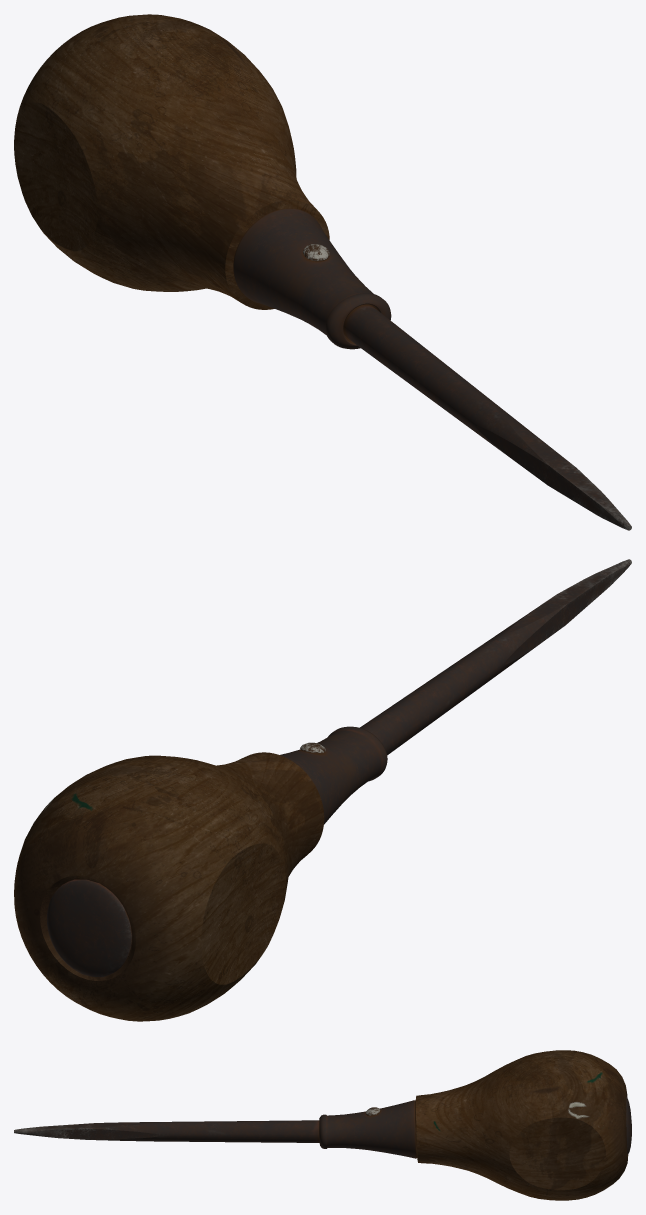
The model's file is casier.fbx.
3 views of the same model, one above another, from view 1: azimuth 30°, elevation 25°; view 2: azimuth 150°, elevation 25°; view 3: azimuth 270°, elevation 25° (orthographic). The views are drawn at different scales.
Visible parts, largest first — view 1: Object_2; view 2: Object_2; view 3: Object_2.
Boxes of the visible parts, <box> form: Object_2: <box>14,14,631,530</box>; Object_2: <box>14,559,631,1021</box>; Object_2: <box>14,1050,631,1200</box>.
Bounding box in the file's own units: 1726 × 2022 × 8298.
